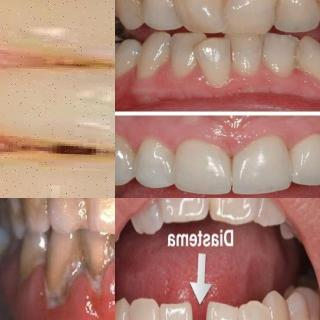Gum Swelling: (18, 263, 115, 320)
calculus: (46, 252, 80, 316), (84, 238, 113, 298), (18, 242, 48, 287), (16, 198, 52, 224), (6, 198, 20, 227)
maligned: (193, 34, 233, 86)
plaque: (290, 41, 310, 73), (131, 0, 149, 20), (306, 0, 320, 20)
